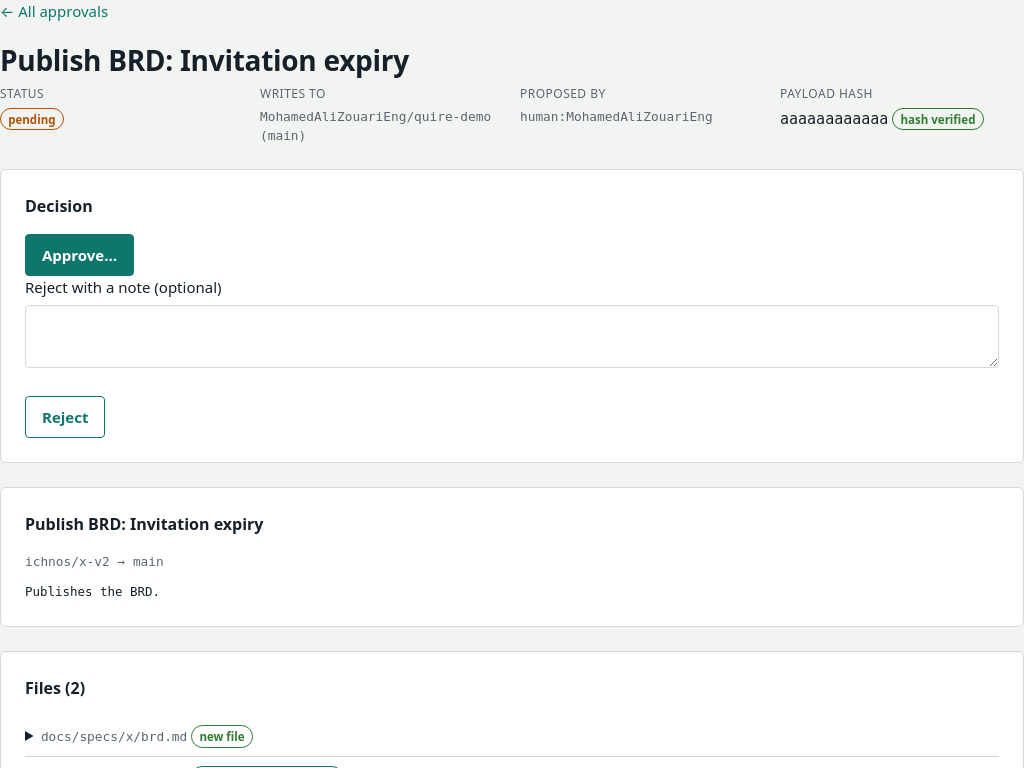
Scenario: ApprovalsPanel › cancels a confirmation with Escape
Click the button "Approve…". click: [80, 255]
box: [25,234,134,276]
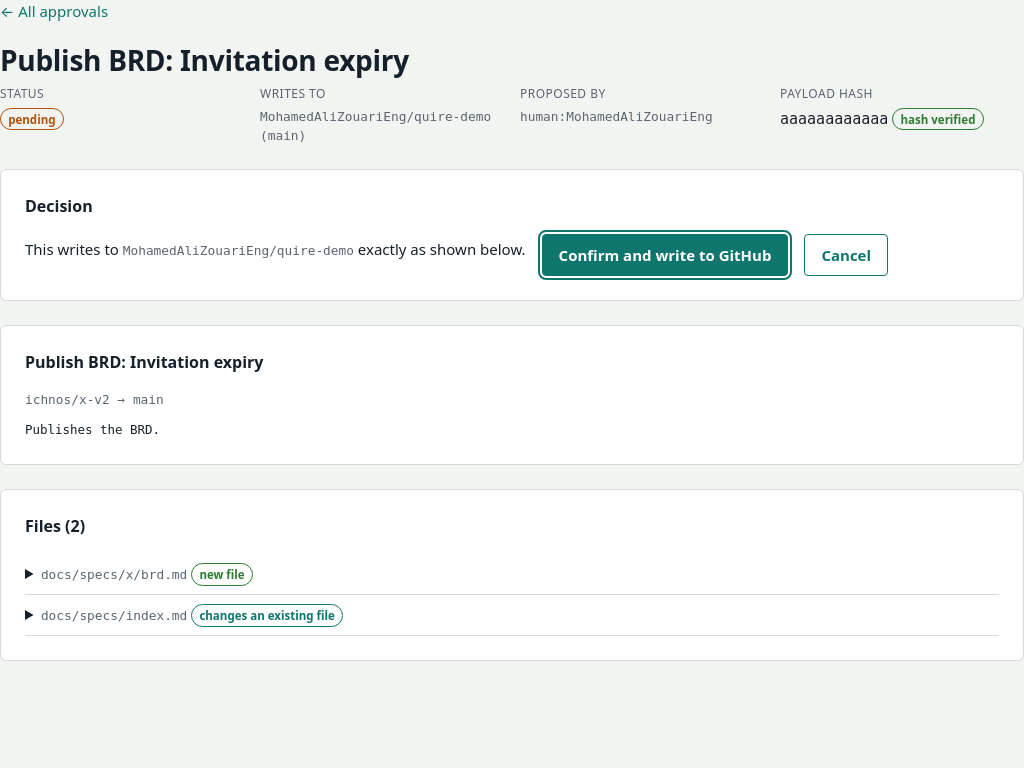
Press Escape in the button "Confirm and write to GitHub", box [542,234,788,276]
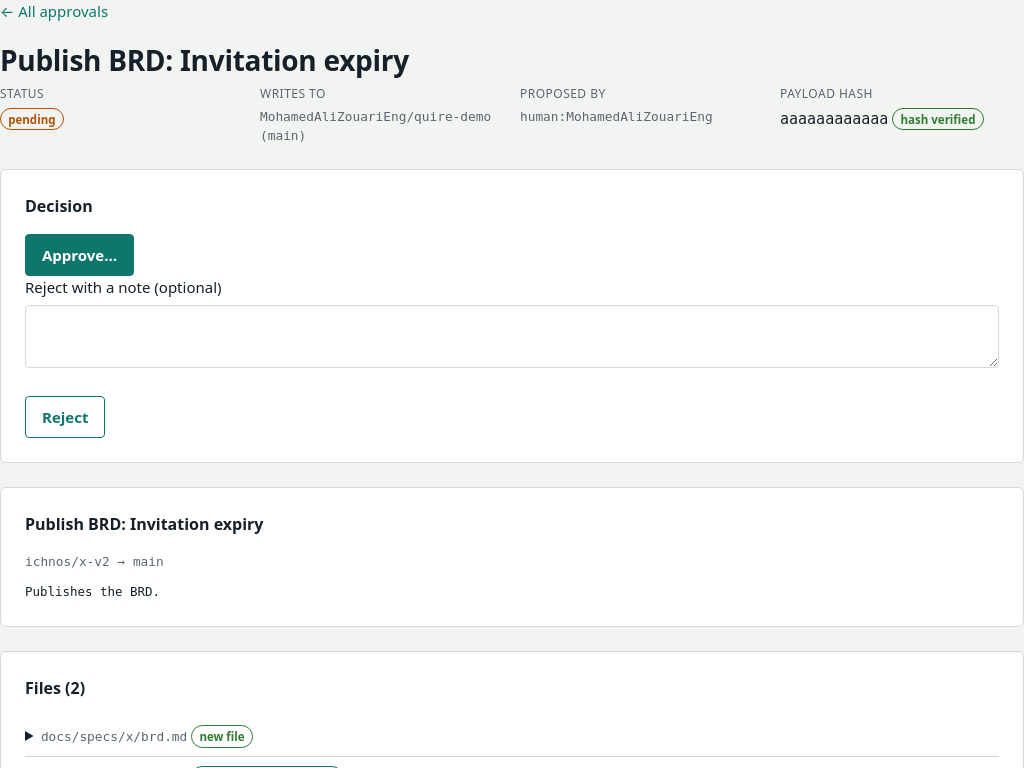
Expected: the button "Approve…" is shown, [25,234,134,276]
